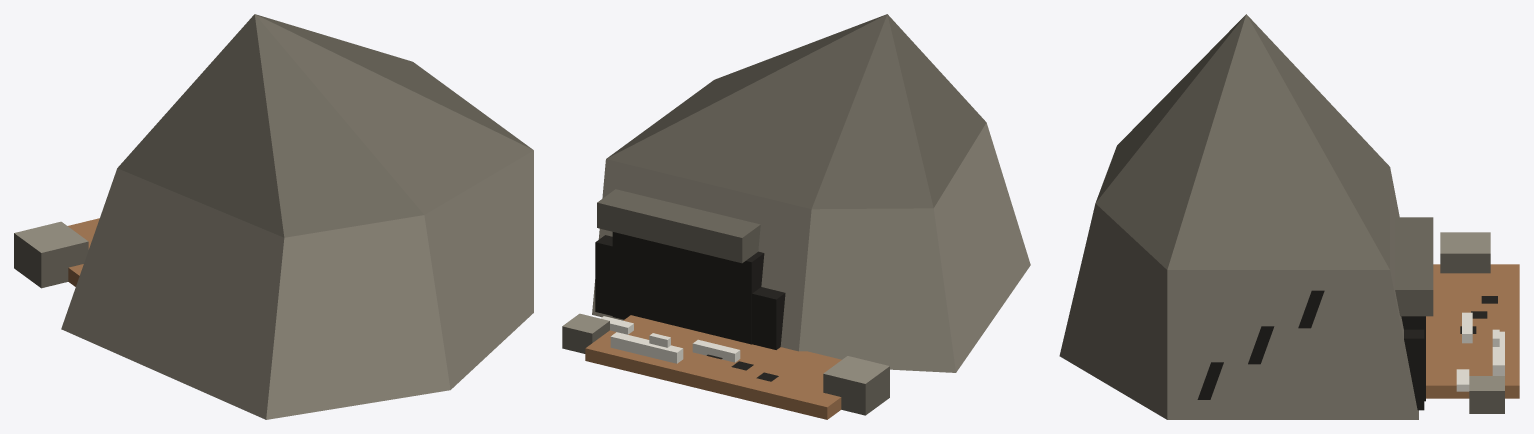
File: terr_lair.glb
3 views of the same model, side by side, from view 1: azimuth 30°, elevation 25°; view 2: azimuth 150°, elevation 25°; view 3: azimuth 270°, elevation 25° (orthographic). The views are drawn at different scales.
Parts seen in each view (by area): view 1: terr_lair; view 2: terr_lair; view 3: terr_lair.
Boxes of the visible parts, x1,y1,x2,y2 form: terr_lair: (14,14,533,419); terr_lair: (562,14,1030,419); terr_lair: (1059,14,1519,419).
Bounding box in the file's own units: 1.1 × 0.92 × 1.28.
Materials: 1 (1 with a texture image).
